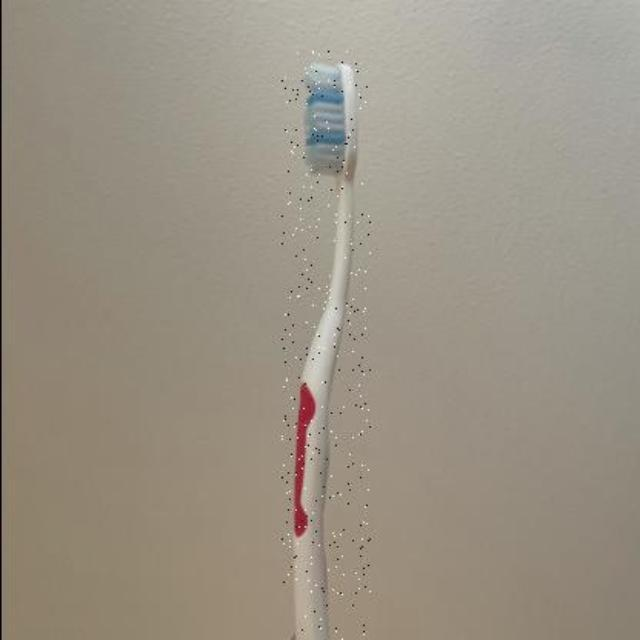toothbrush: (280, 51, 370, 640)
